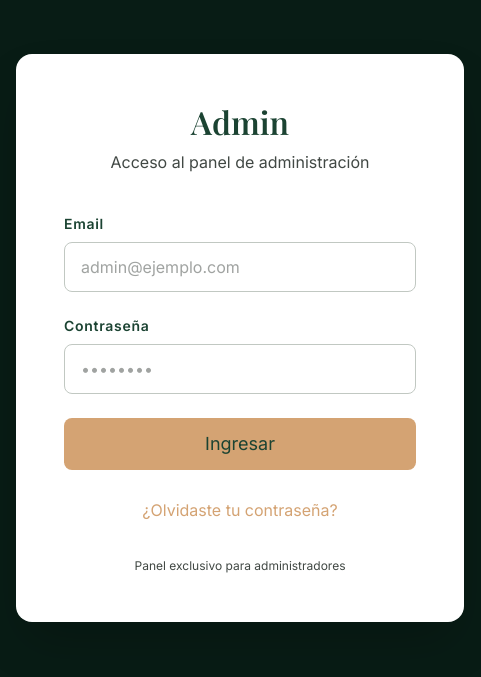
it: LoginPage › Password reset › shows error when resetPasswordForEmail fails
This screenshot has width=481, height=677.
Type "unknown@test.com" into the field labelled "Email" at point(240, 267), box [64, 242, 416, 292]
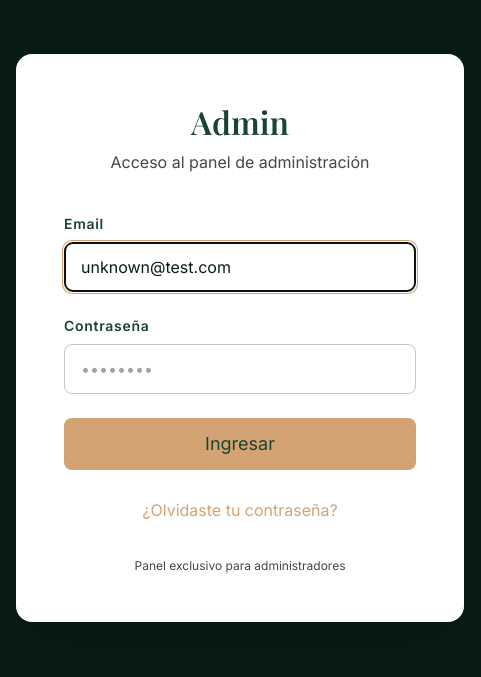
Click the button "¿Olvidaste tu contraseña?" at point(240, 510), box [64, 486, 416, 534]
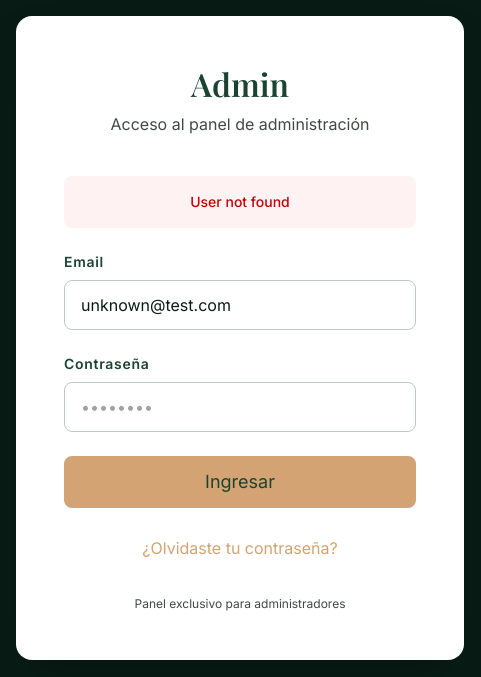
Check: the text "User not found" is shown, box [64, 176, 416, 228]
